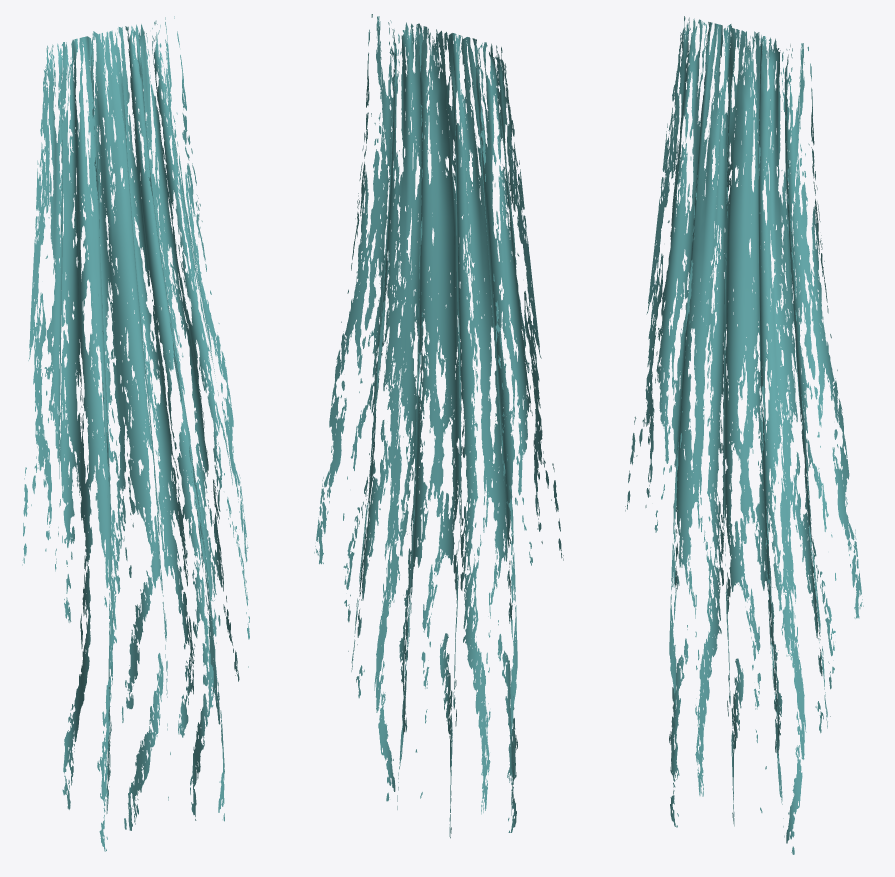
Rendered from DroopingAlgaeCurtain.fbx.
3 renders of one model, left to right at view 1: azimuth 30°, elevation 25°; view 2: azimuth 150°, elevation 25°; view 3: azimuth 330°, elevation 25°, orthographic. The views are drawn at different scales.
Visible parts, largest first — view 1: Curtain.005; view 2: Curtain.005; view 3: Curtain.005.
Part boxes in pixels (x1,y1,x2,y2): Curtain.005: [22, 16, 249, 851]; Curtain.005: [314, 14, 563, 838]; Curtain.005: [625, 16, 863, 854].
Size of the model in its own units: 11.9 by 34.21 by 2.83.
